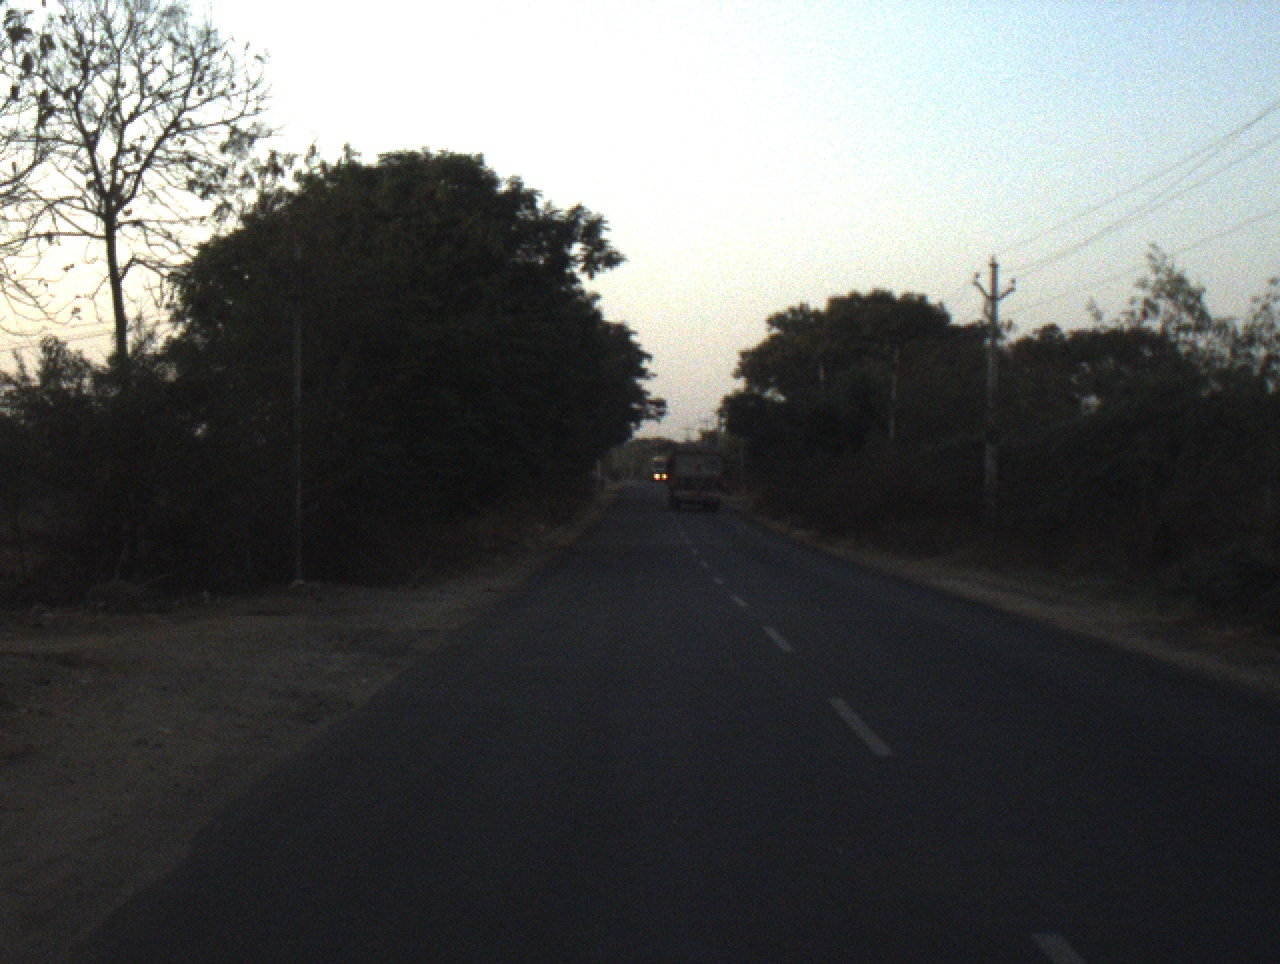truck: (665, 447, 727, 517), (645, 451, 669, 487)
